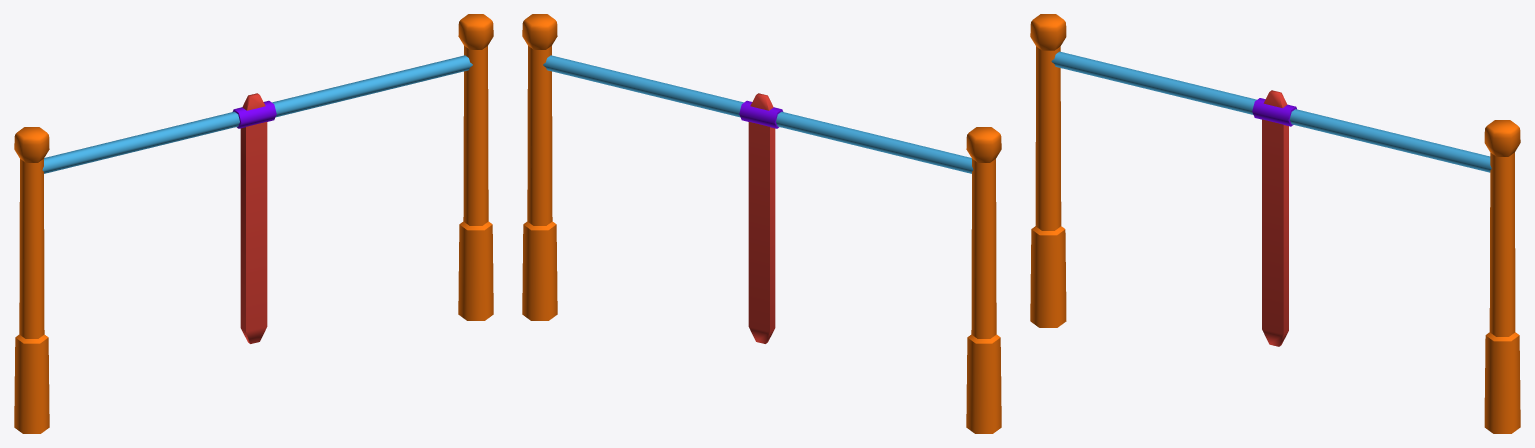
File: Saw_Gate_01.fbx
3 renders of one model, left to right at view 1: azimuth 30°, elevation 25°; view 2: azimuth 150°, elevation 25°; view 3: azimuth 330°, elevation 25°, orthographic. The views are drawn at different scales.
Visible parts, largest first — view 1: Obstacle_Saw_Gate_01, Obstacle_Saw_Gate_01_Holder; view 2: Obstacle_Saw_Gate_01, Obstacle_Saw_Gate_01_Holder; view 3: Obstacle_Saw_Gate_01, Obstacle_Saw_Gate_01_Holder.
Part boxes in pixels (x1=…): Obstacle_Saw_Gate_01: x1=14, y1=14, x2=493, y2=433; Obstacle_Saw_Gate_01_Holder: x1=232, y1=93, x2=276, y2=343; Obstacle_Saw_Gate_01: x1=522, y1=14, x2=1001, y2=433; Obstacle_Saw_Gate_01_Holder: x1=739, y1=93, x2=783, y2=343; Obstacle_Saw_Gate_01: x1=1030, y1=14, x2=1520, y2=433; Obstacle_Saw_Gate_01_Holder: x1=1252, y1=90, x2=1296, y2=346.
Size of the model in its own units: 460 by 280 by 29.96.
Materials: 1 (1 with a texture image).
